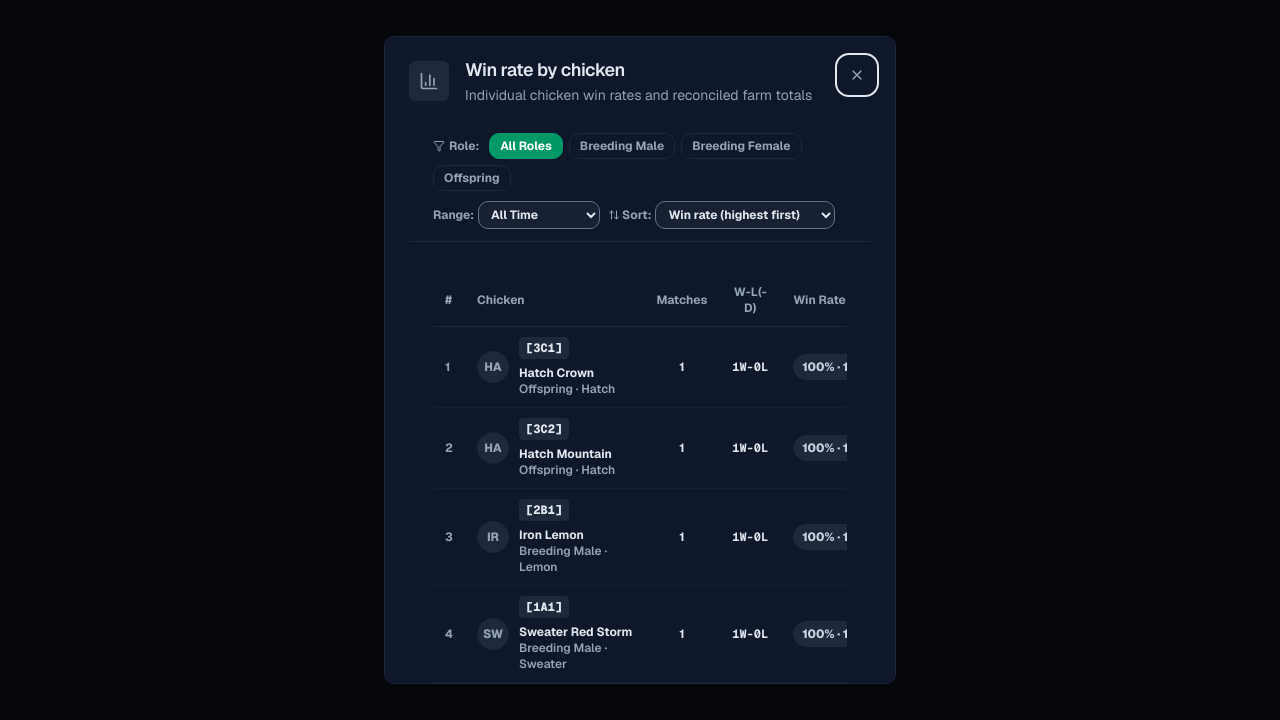
Scenario: PerFowlBreakdownModal › filters by chicken role (Breeding Male vs Non-Breeding)
Click the button "Breeding Male".
click(622, 146)  # box [569, 133, 675, 159]
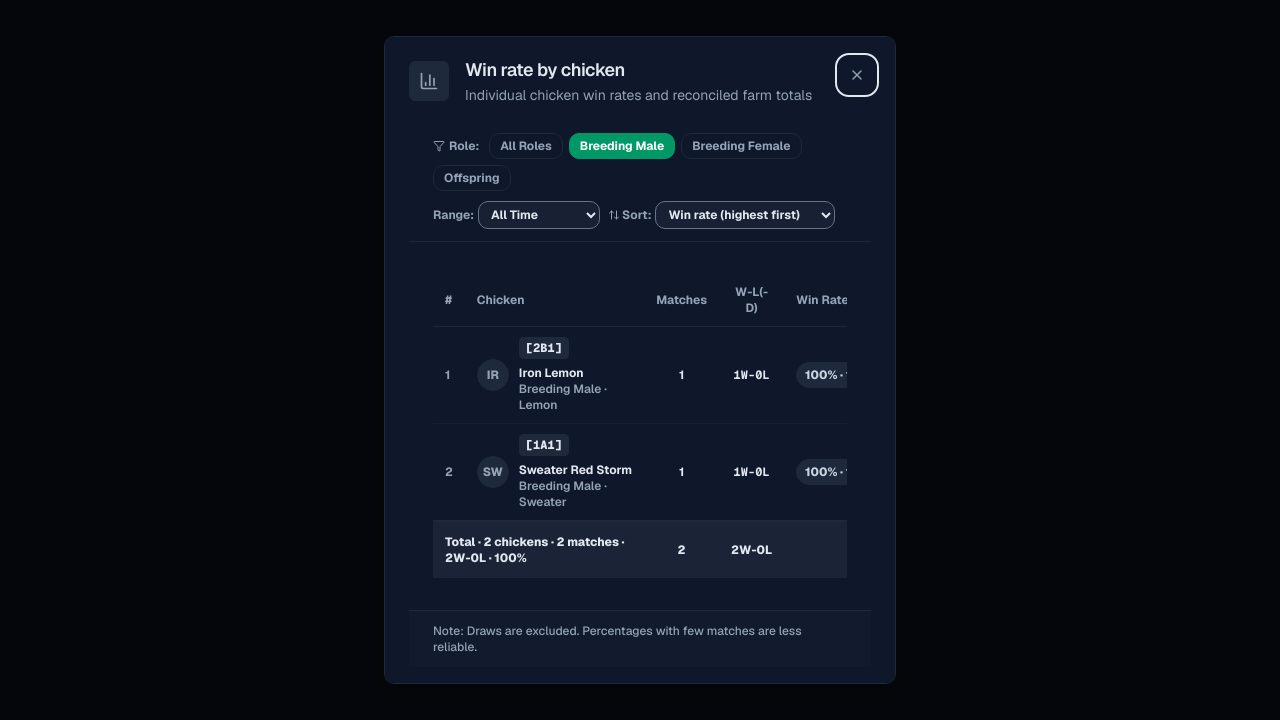
Now the button "Hatch Crown" is gone
Now the button "Hatch Mountain" is gone
Now the text "Total · 2 chickens · 2 matches · 2W-0L · 100%" is shown, box [433, 521, 644, 578]
